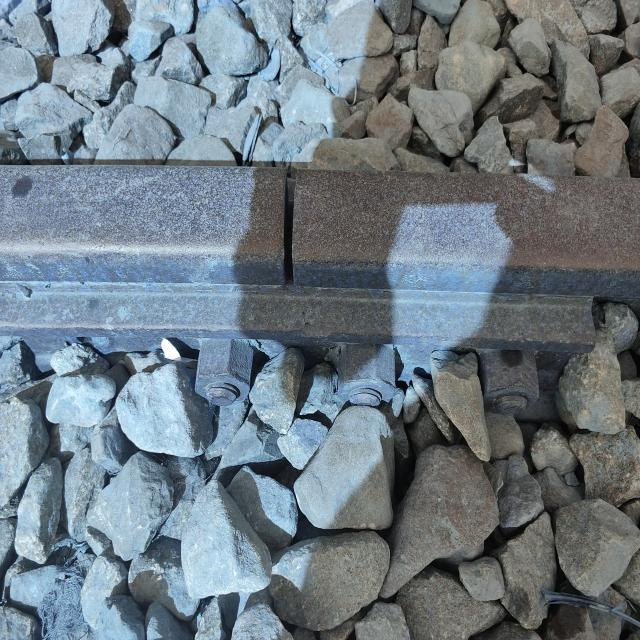Defective Joint: (0, 282, 595, 406)
